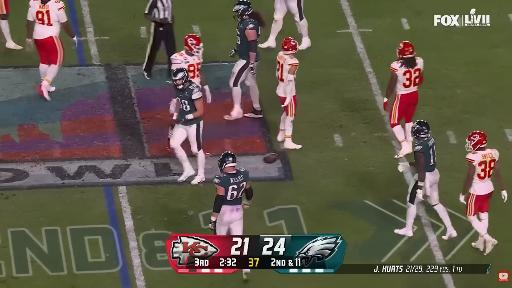Helmet: (466, 131, 487, 151), (233, 0, 252, 21), (172, 68, 190, 89), (184, 35, 202, 55), (411, 120, 430, 138), (218, 152, 236, 171), (397, 42, 415, 57), (282, 38, 298, 53)
Jersey: (27, 0, 67, 39), (466, 149, 498, 194), (214, 168, 249, 205), (391, 58, 423, 94), (175, 83, 202, 125), (171, 50, 202, 86), (236, 19, 260, 61), (276, 52, 298, 96), (414, 136, 436, 172)
Player: (395, 120, 457, 239), (460, 131, 507, 254), (27, 0, 76, 100), (224, 0, 264, 119), (384, 42, 423, 158), (170, 68, 205, 184), (210, 152, 253, 235), (171, 35, 211, 102), (277, 38, 301, 149), (259, 0, 311, 49), (0, 0, 22, 49)
